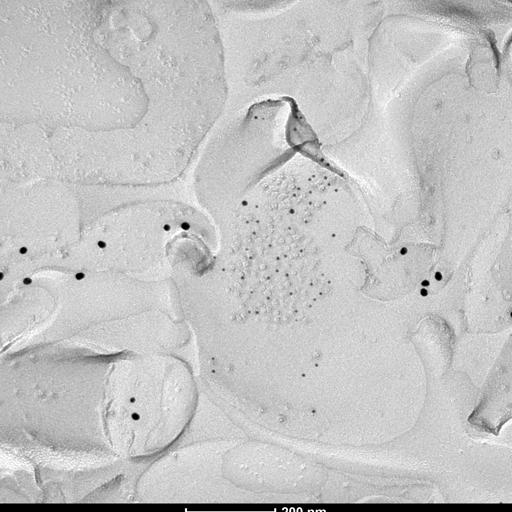1: (287, 207, 295, 215)
6 nm Particle: (254, 310, 260, 316), (311, 296, 317, 302), (288, 291, 294, 297), (326, 279, 332, 285), (239, 275, 245, 281), (319, 272, 325, 278), (284, 272, 290, 278), (274, 268, 280, 274), (220, 267, 226, 273), (275, 256, 281, 262), (282, 253, 288, 259), (298, 248, 304, 254), (267, 243, 273, 249), (251, 230, 257, 236), (286, 226, 292, 232), (244, 219, 250, 225), (303, 219, 309, 225), (255, 219, 261, 225), (307, 200, 313, 206), (291, 192, 297, 198), (295, 186, 301, 192), (247, 309, 253, 315), (265, 296, 271, 302), (294, 318, 300, 324), (306, 303, 312, 309), (317, 292, 323, 298), (308, 281, 314, 287), (265, 276, 271, 282), (247, 254, 253, 260), (244, 248, 250, 254), (307, 189, 313, 195), (322, 200, 328, 206), (293, 308, 299, 314), (249, 289, 255, 295), (254, 203, 260, 209)
